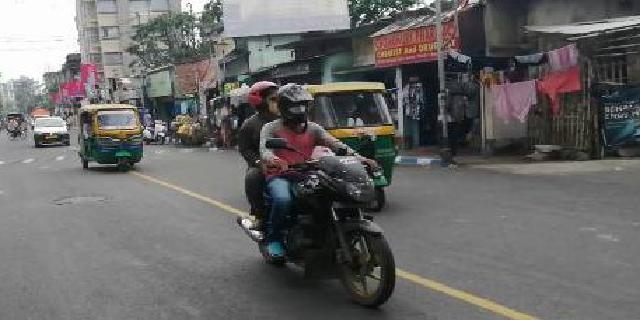Autorickshaw: (314, 79, 405, 194), (80, 94, 160, 171)
Car: (32, 113, 71, 150)
Motorbike: (236, 75, 403, 320)
